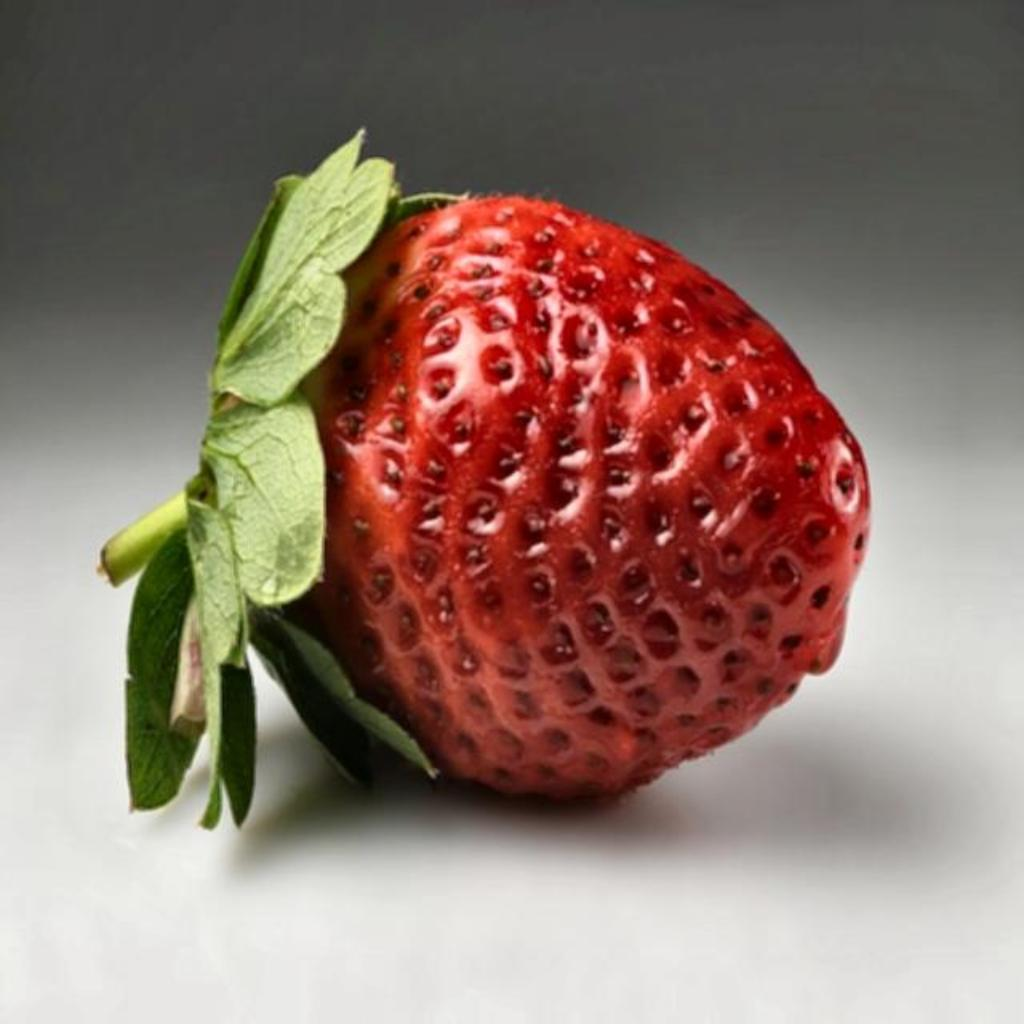strawberry: (102, 134, 870, 825)
